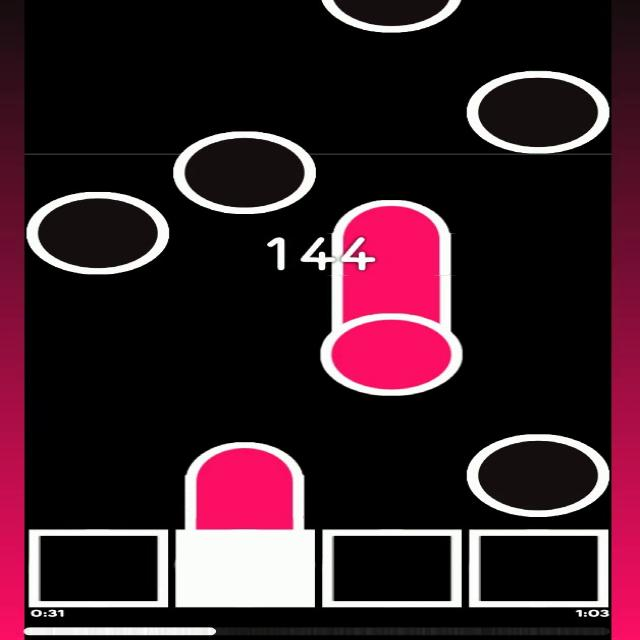end_hold: (331, 190, 454, 248), (184, 433, 308, 486)
note: (28, 185, 173, 279), (171, 129, 321, 218), (464, 66, 609, 156), (466, 431, 609, 519), (324, 2, 461, 34)
start_hold: (313, 298, 469, 398)
